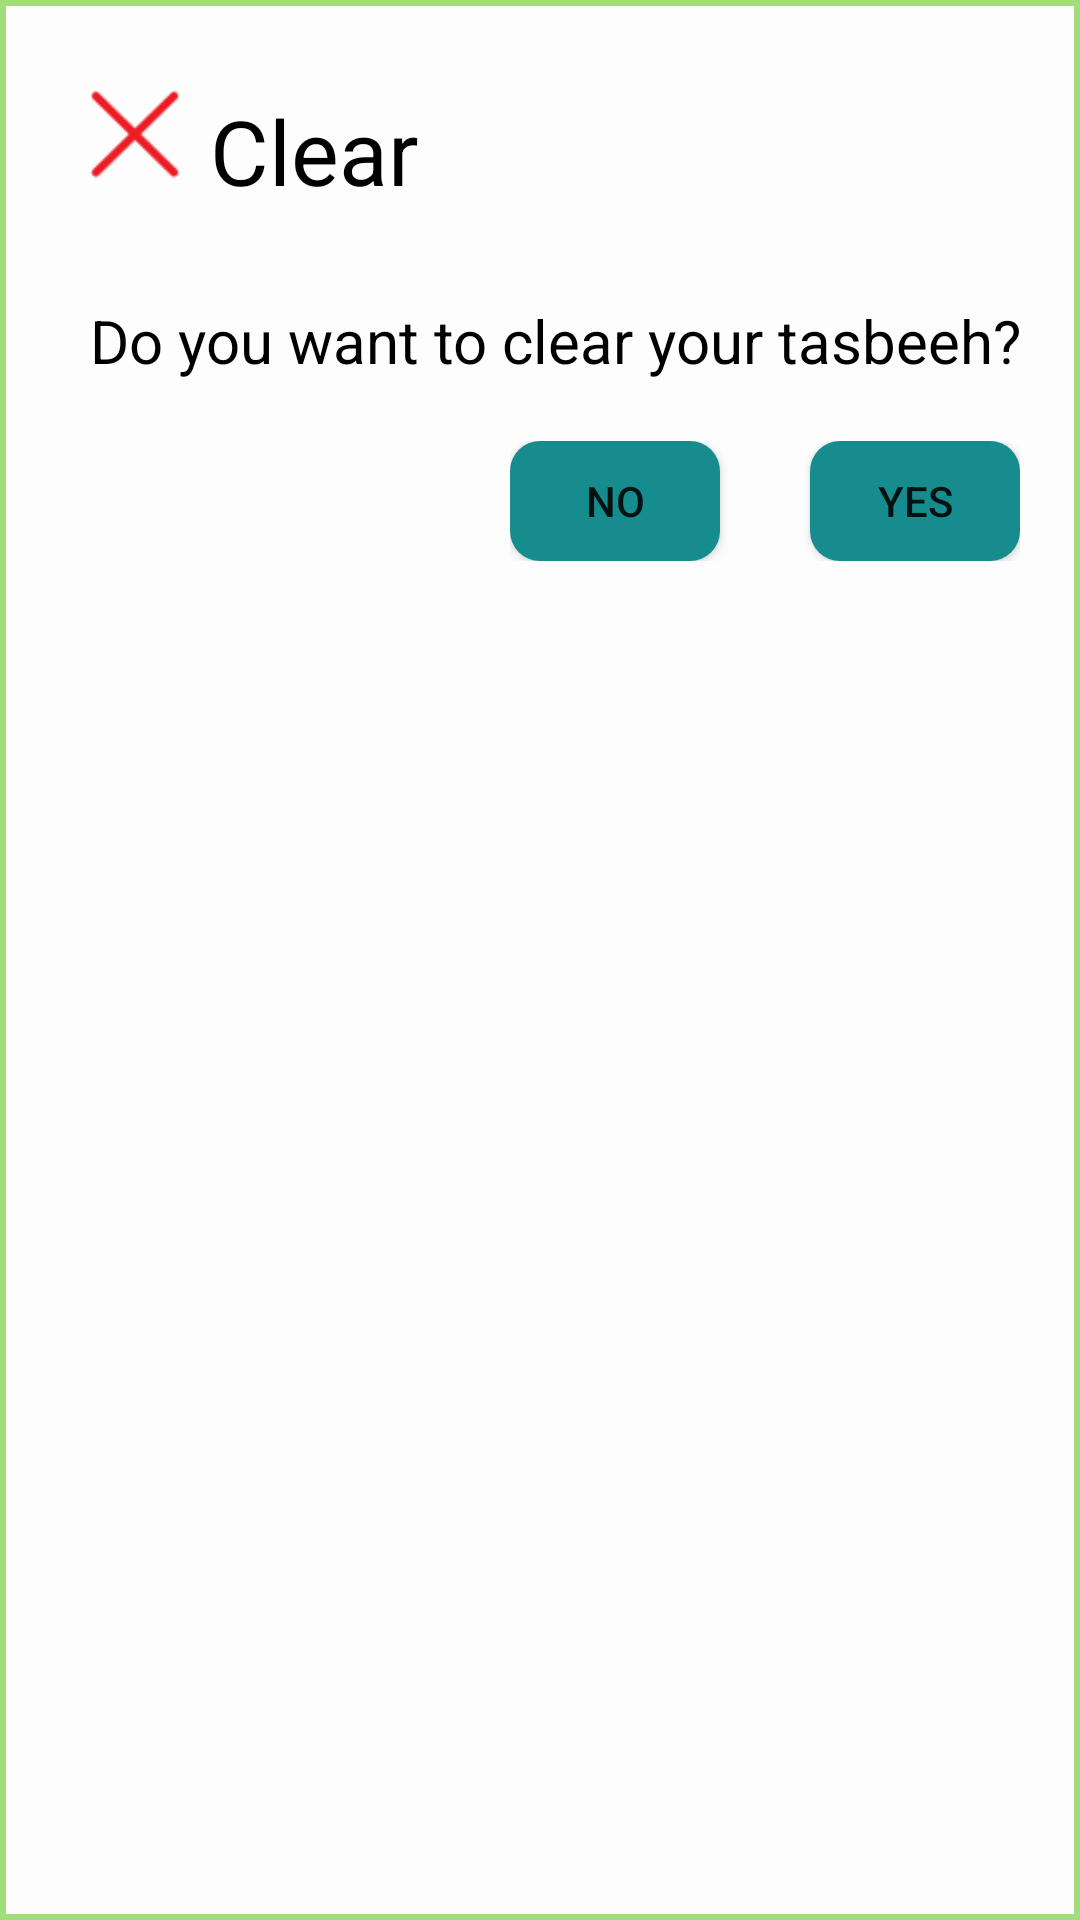

Icons on this 1080×1920 Android screen, each with the point to tap as point (x, y):
delete: point (135, 134)
